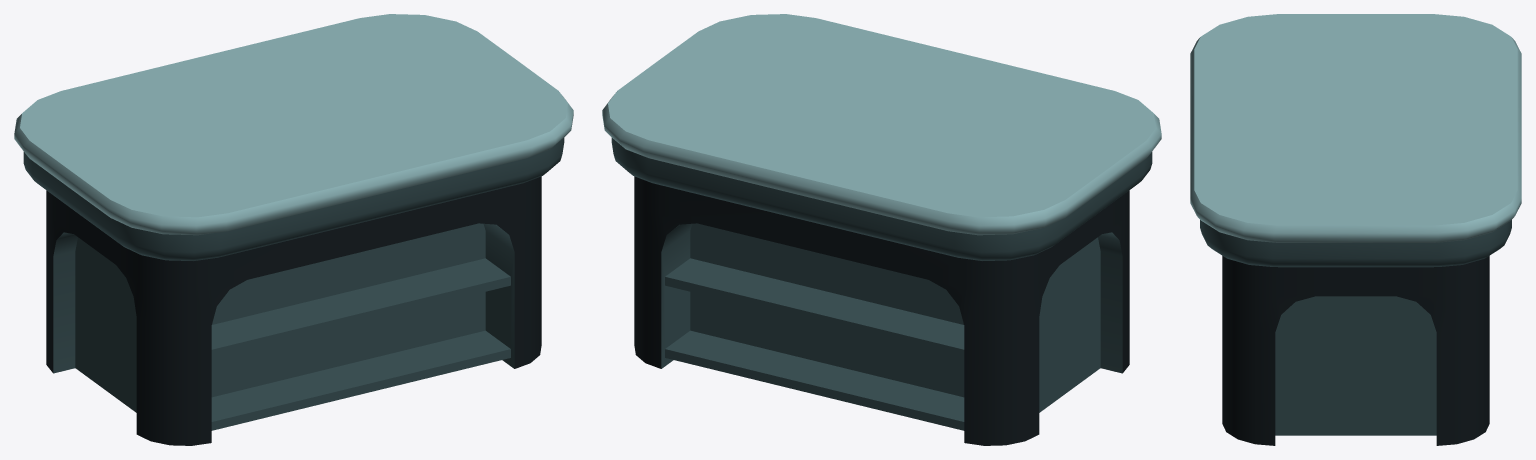
File: FI_033_table_var1.glb
3 renders of one model, left to right at view 1: azimuth 30°, elevation 25°; view 2: azimuth 150°, elevation 25°; view 3: azimuth 270°, elevation 25°, orthographic. The views are drawn at different scales.
Visible parts, largest first — view 1: table_var1; view 2: table_var1; view 3: table_var1.
Boxes of the visible parts, left/top/right/bottom form: table_var1: left=14, top=14, right=573, bottom=445; table_var1: left=602, top=14, right=1161, bottom=445; table_var1: left=1190, top=14, right=1521, bottom=445.
Bounding box in the file's own units: 2.23 × 1.12 × 1.46.
